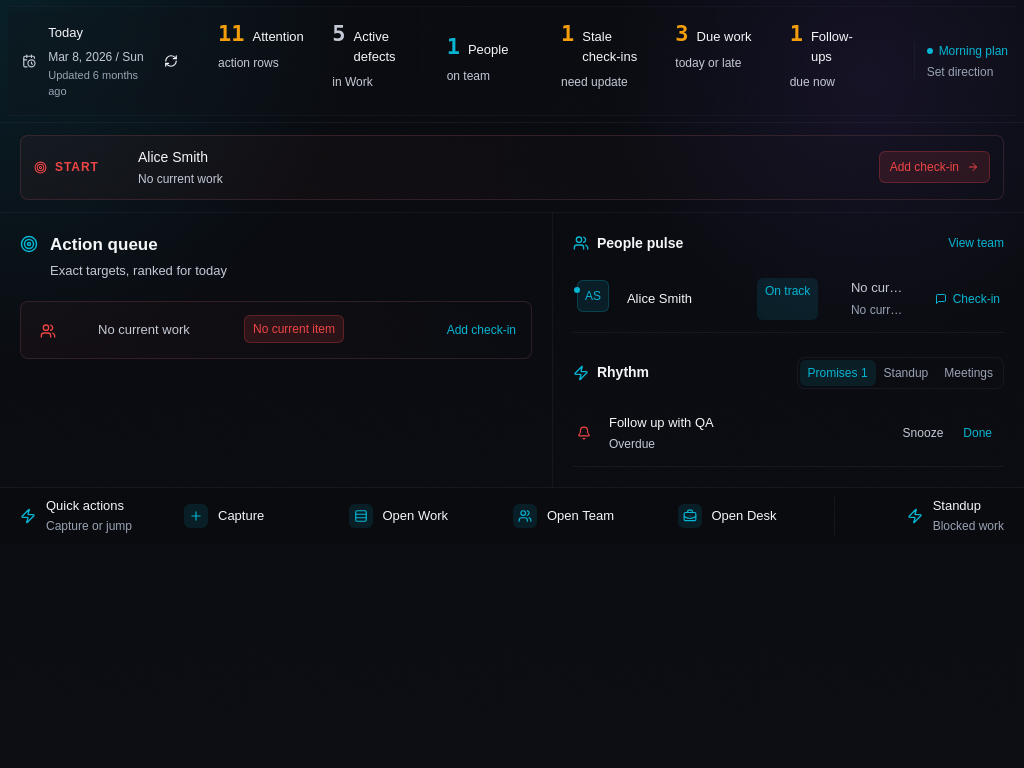
Test: TodayPage V2 › shows Open developer after a same-day check-in clears the check-in action
Click the button "Add check-in": (449, 330) x1=372 y1=314 x2=526 y2=344
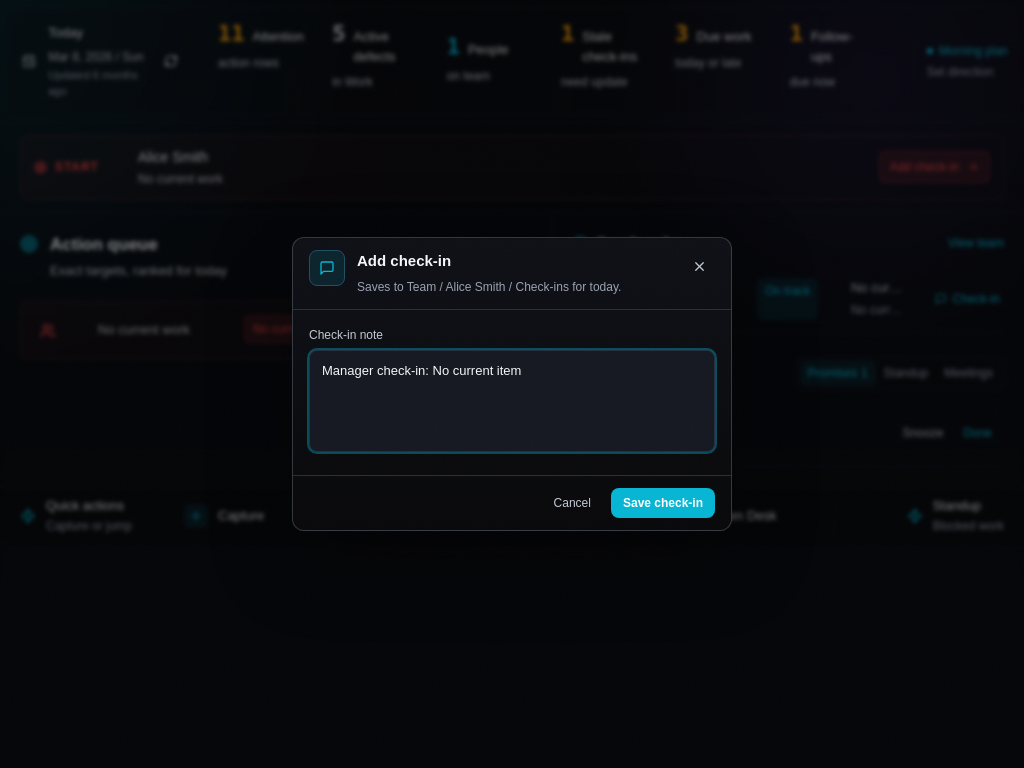
Replace the text in the text box labelled "Check-in note" with "Asked about next work": (512, 401) x1=309 y1=350 x2=715 y2=452
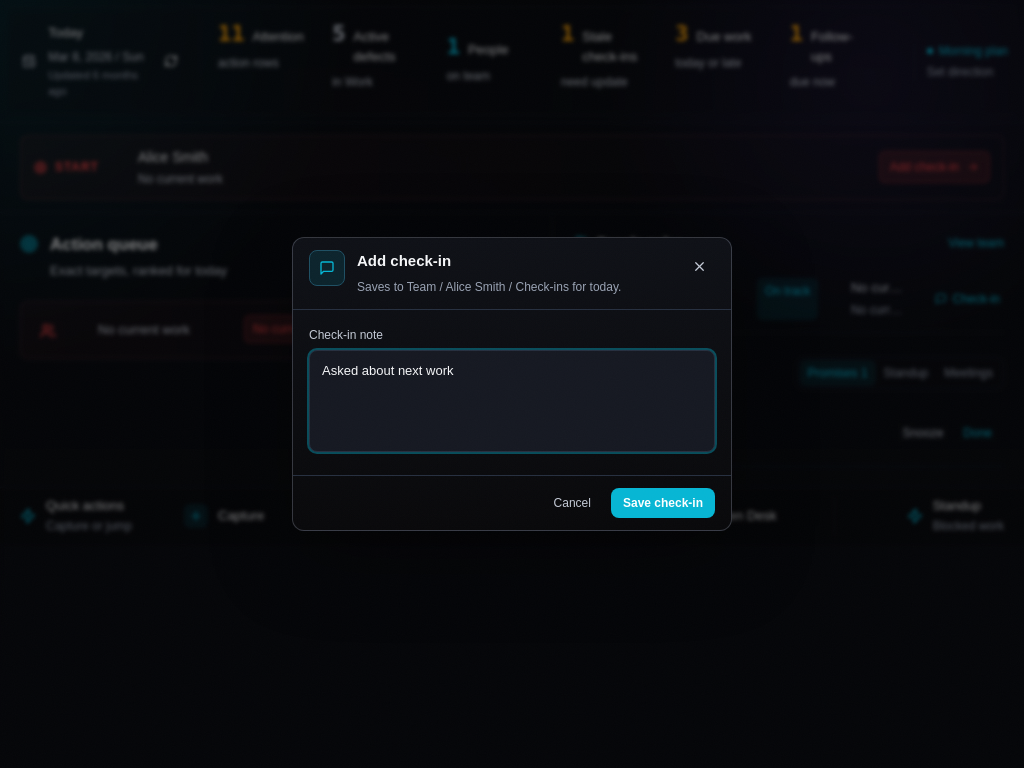
Click the button "Save check-in": (663, 503) x1=611 y1=488 x2=715 y2=518
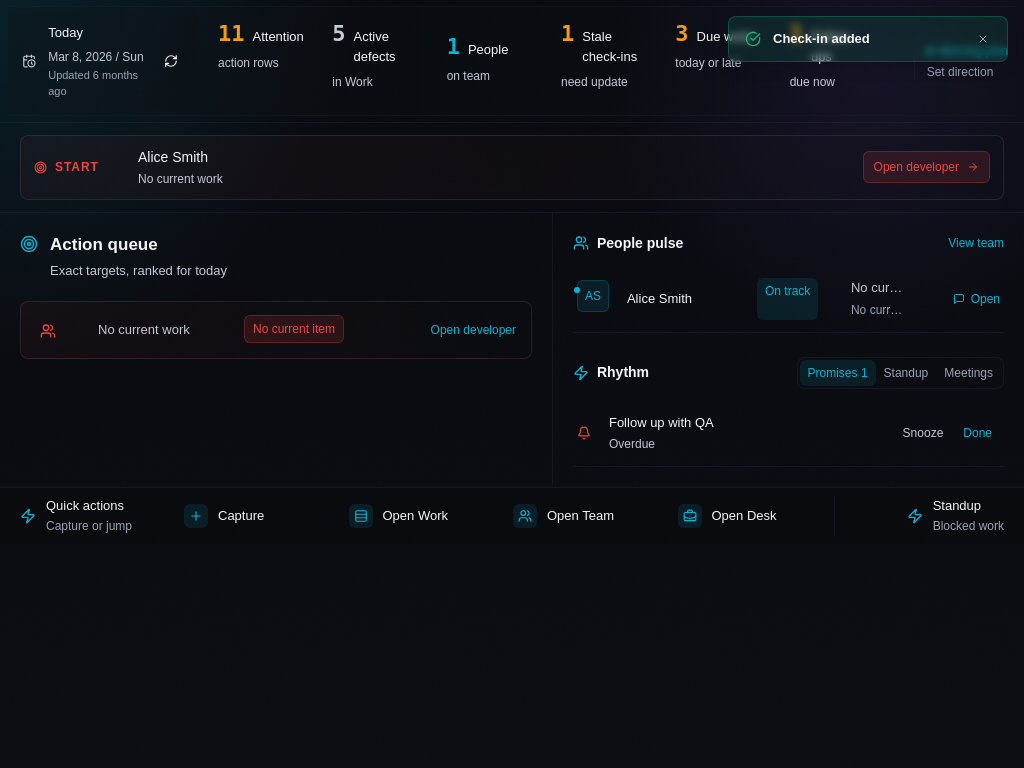
Check: the button "Add check-in" is gone
Check: the button "Open developer" is shown, box x1=372 y1=314 x2=526 y2=344
